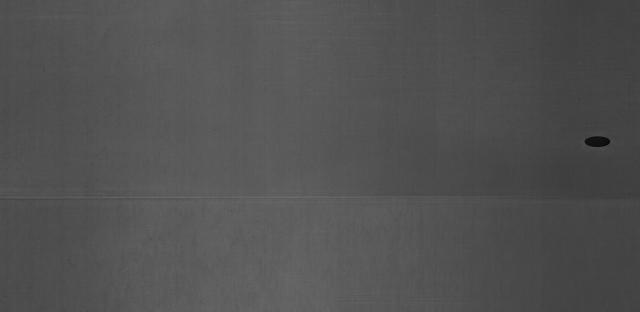punching_hole: (581, 131, 615, 150)
welding_line: (2, 185, 636, 210)
